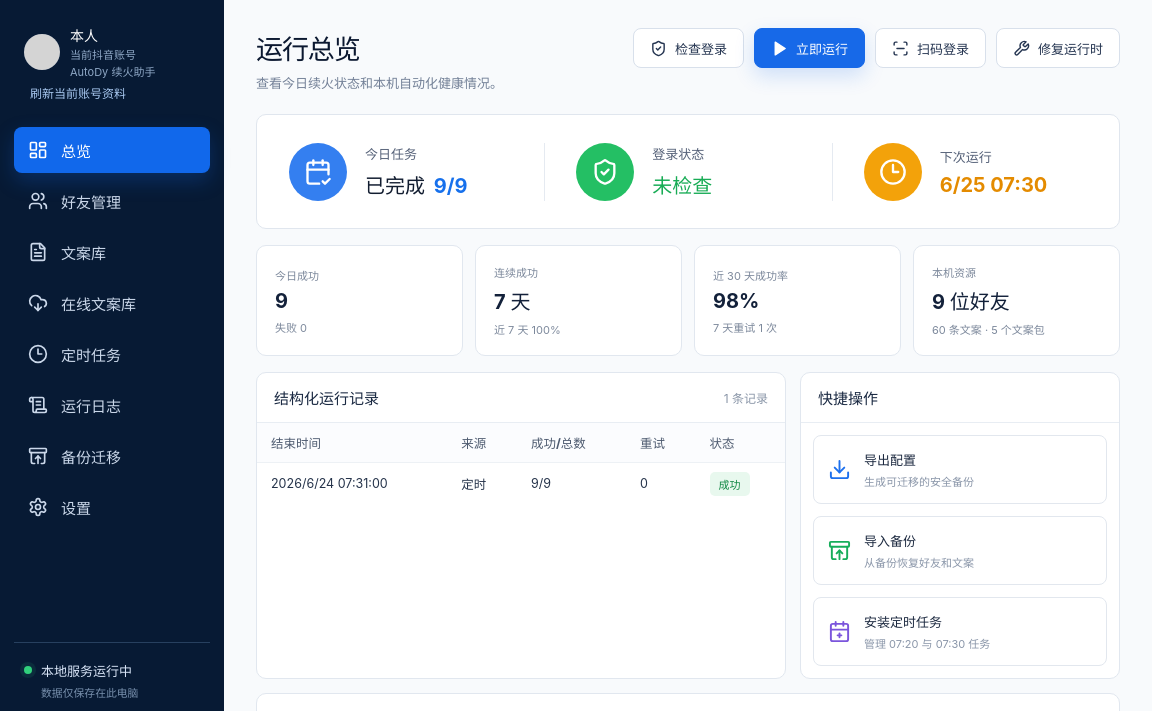
Test: shows a localized account-profile route error instead of FastAPI detail
Click the button "刷新当前账号资料" at x=112, y=92, box [24,83,200,102]
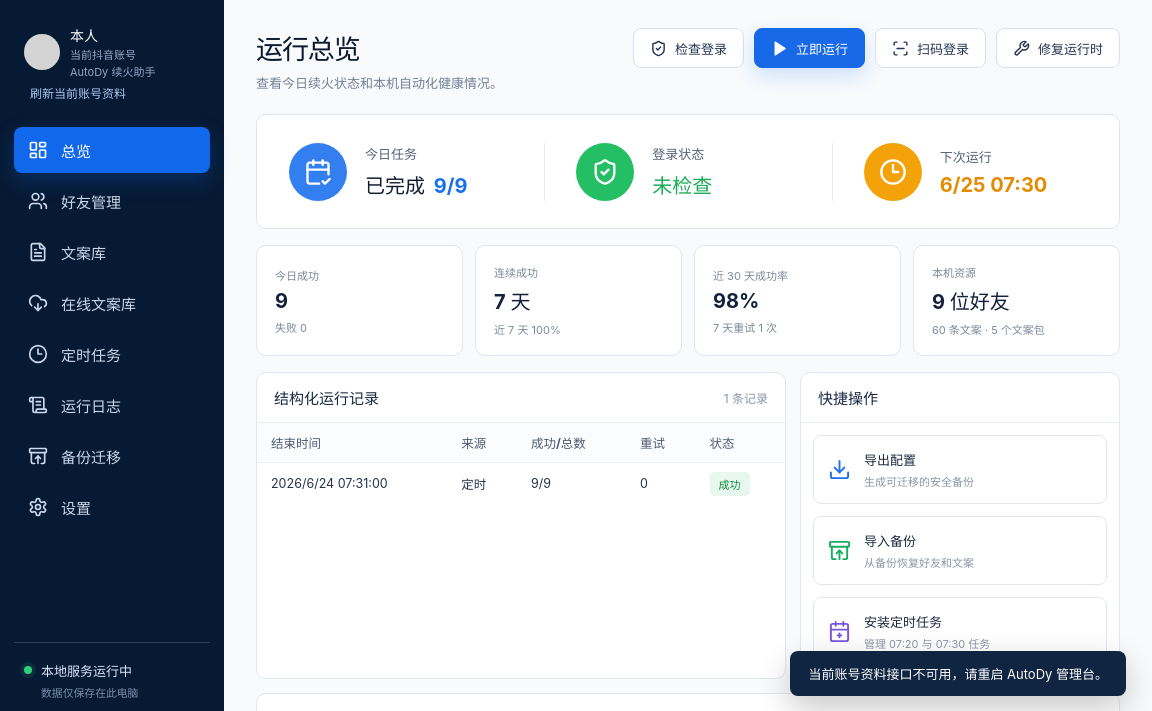
expect the text "当前账号资料接口不可用，请重启 AutoDy 管理台。" is shown: met, box [790,651,1126,696]
